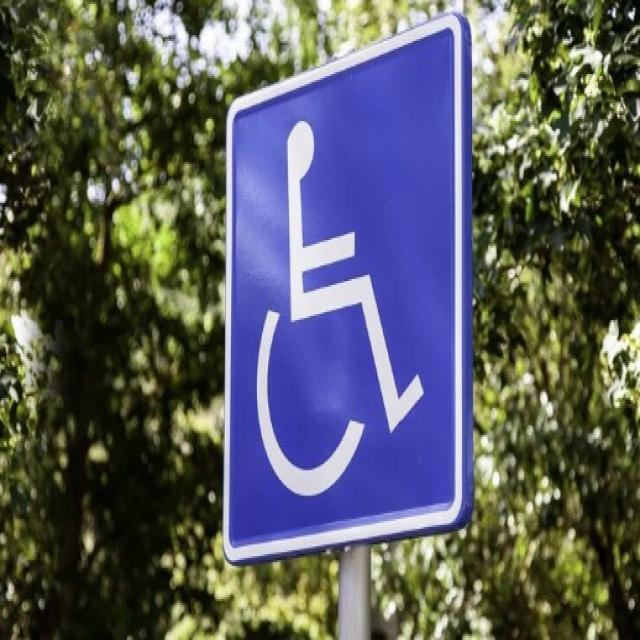symbol_of_access: (220, 12, 474, 564)
